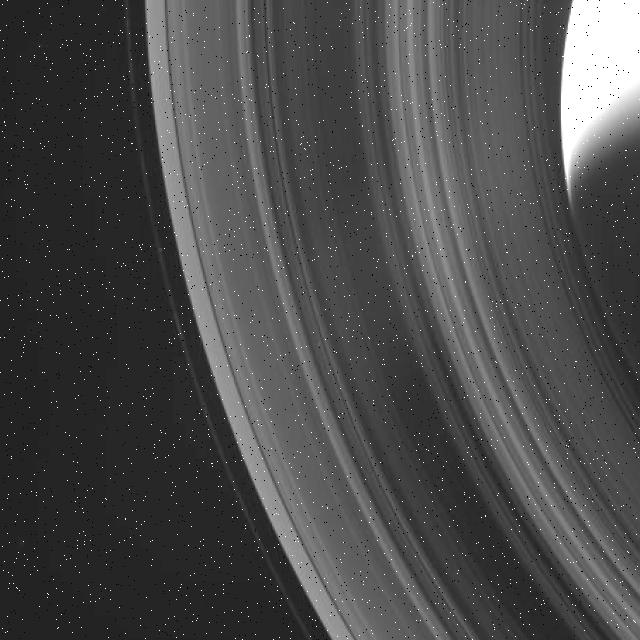Saturn: (121, 0, 640, 640)
